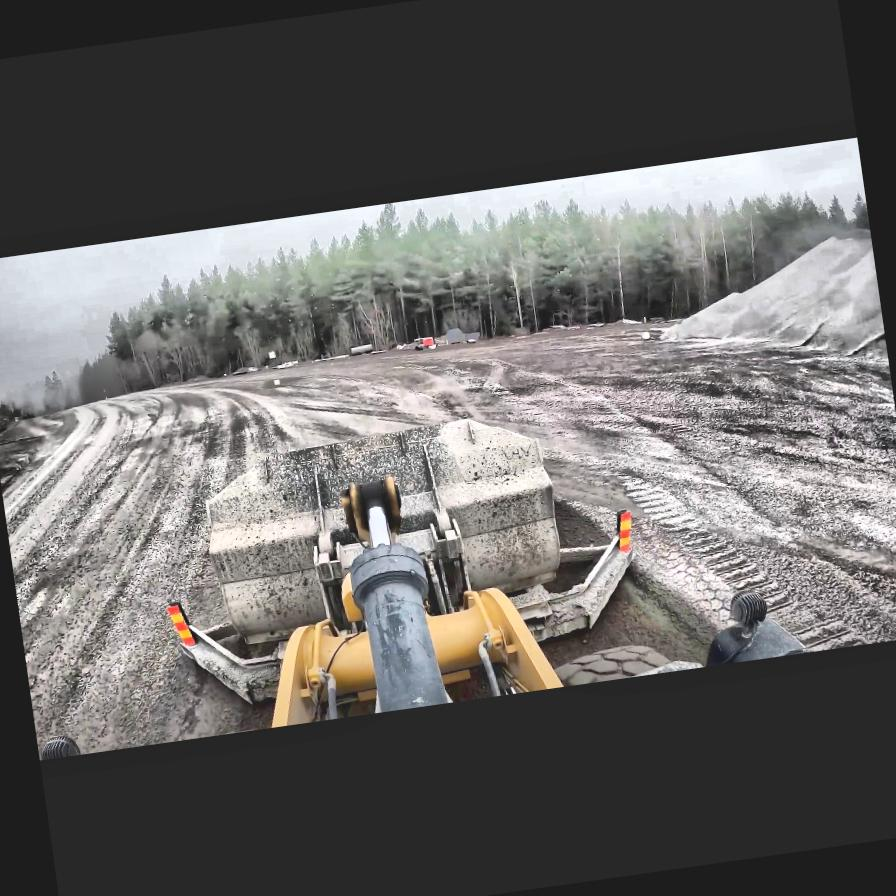anchor: (340, 475, 404, 546)
pile of gravel: (644, 228, 887, 384)
